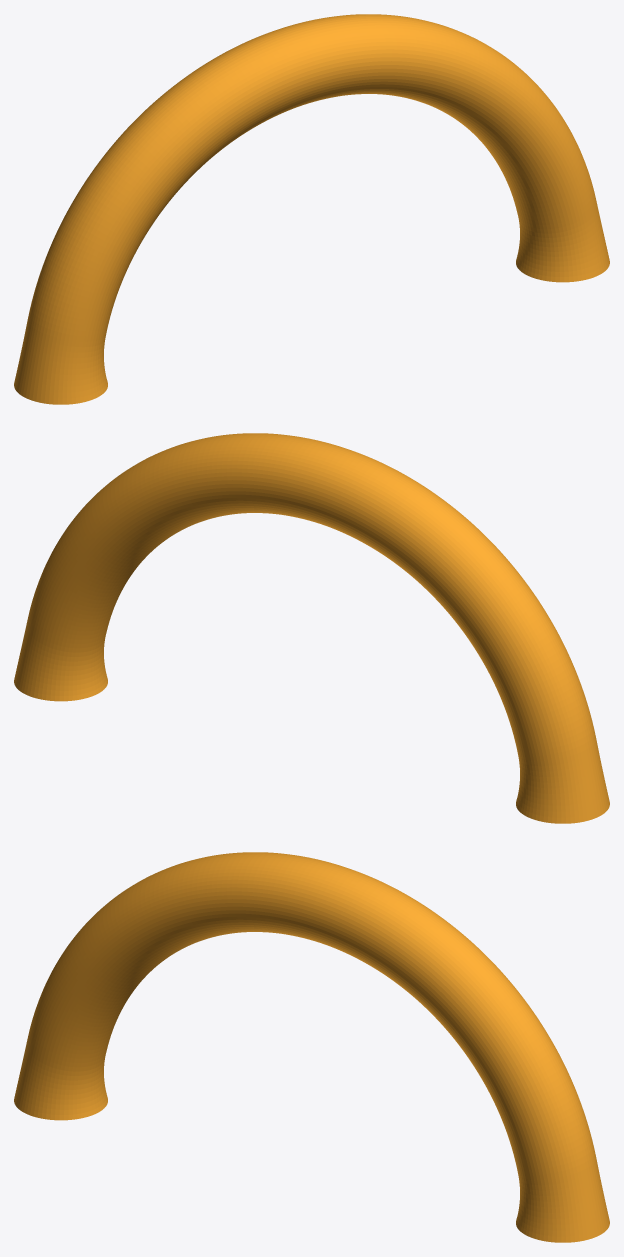
File: arch_orange.glb
3 renders of one model, top to bottom at view 1: azimuth 30°, elevation 25°; view 2: azimuth 150°, elevation 25°; view 3: azimuth 330°, elevation 25°, orthographic.
Visible parts, largest first — view 1: geometry_0; view 2: geometry_0; view 3: geometry_0.
Part boxes in pixels (x1,y1,x2,y2): geometry_0: (14,14,609,404); geometry_0: (14,433,609,823); geometry_0: (14,852,609,1242).
Bounding box in the file's own units: 10.46 × 5.12 × 1.46.
